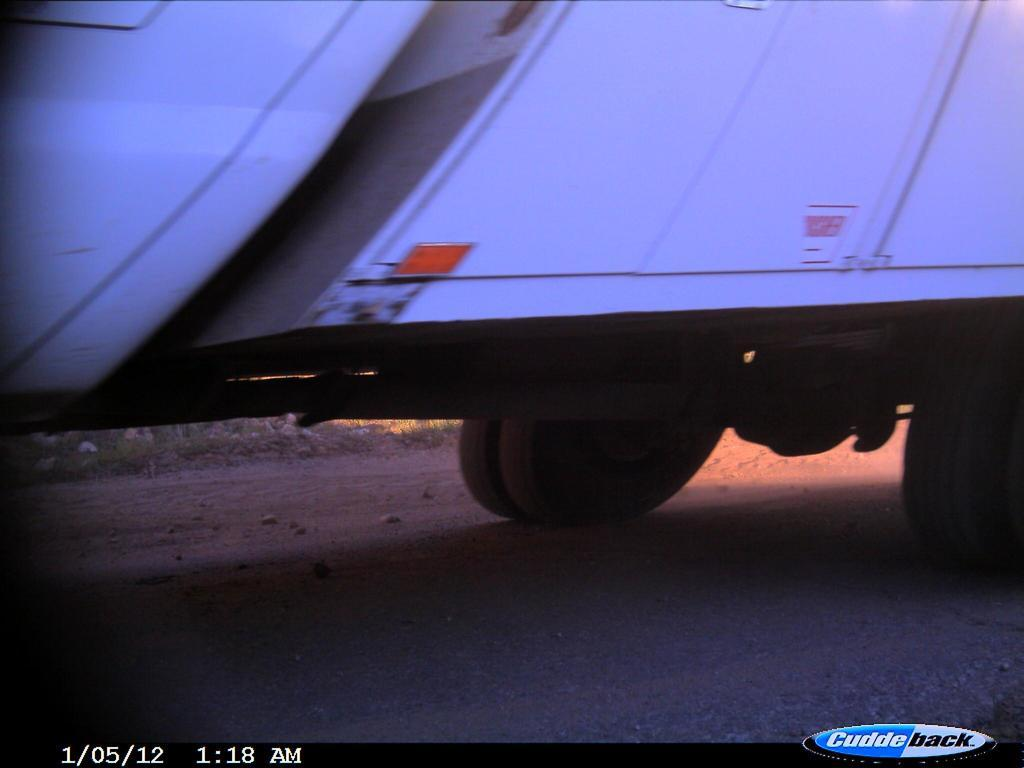car: (1, 1, 1024, 768)
